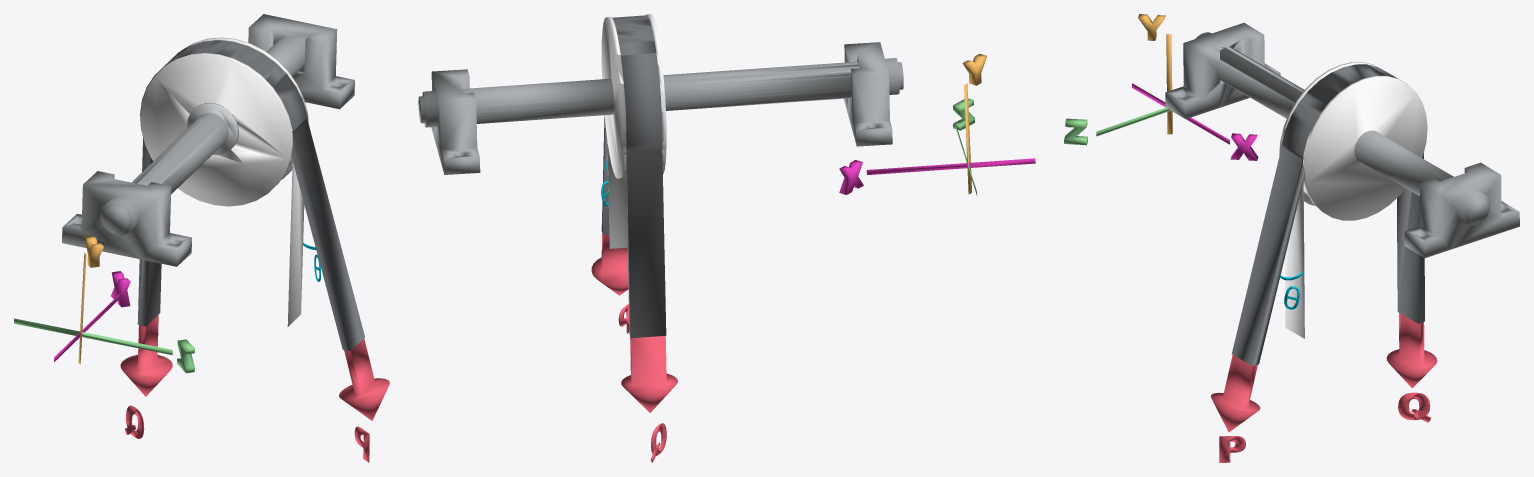
The model's file is U2_SinglePulleyALT.glb.
3 renders of one model, left to right at view 1: azimuth 30°, elevation 25°; view 2: azimuth 150°, elevation 25°; view 3: azimuth 270°, elevation 25°, orthographic. The views are drawn at different scales.
Visible parts, largest first — view 1: obj_0.001; view 2: obj_0.001; view 3: obj_0.001.
Part boxes in pixels (left/top/right/bottom): obj_0.001: left=14, top=14, right=389, bottom=462; obj_0.001: left=418, top=14, right=1035, bottom=462; obj_0.001: left=1064, top=14, right=1519, bottom=462.
Bounding box in the file's own units: 2.91 × 2.45 × 2.68.
